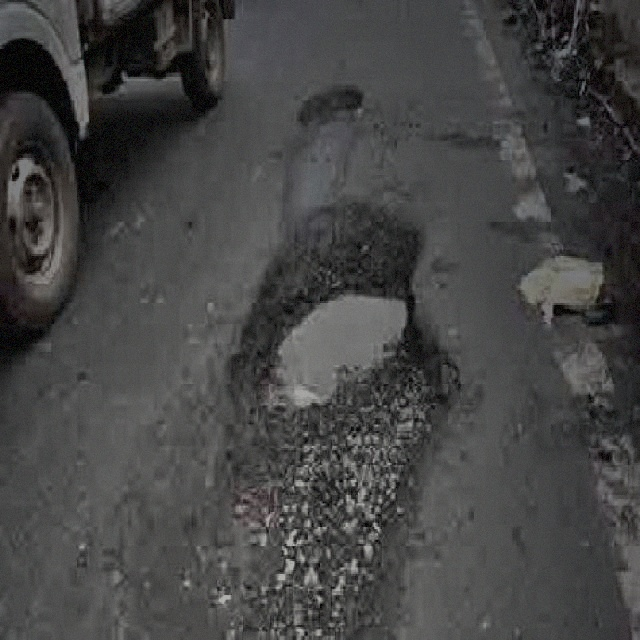pothole: (226, 196, 457, 627), (297, 79, 365, 126)
